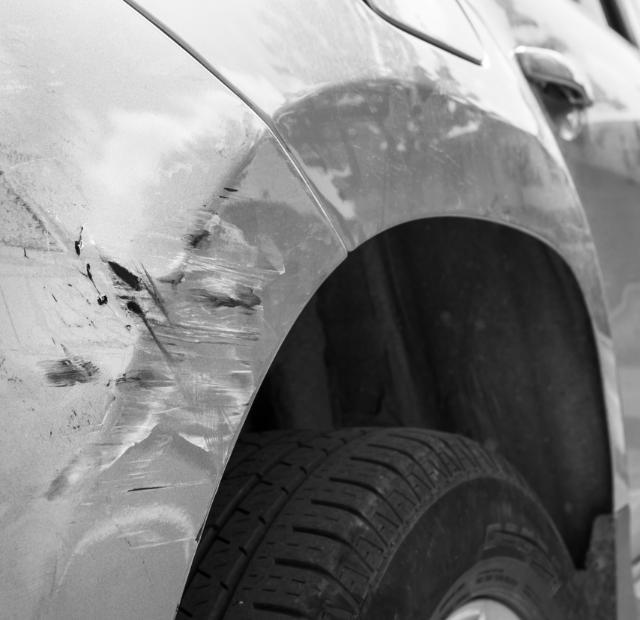Fender: (0, 71, 338, 620)
